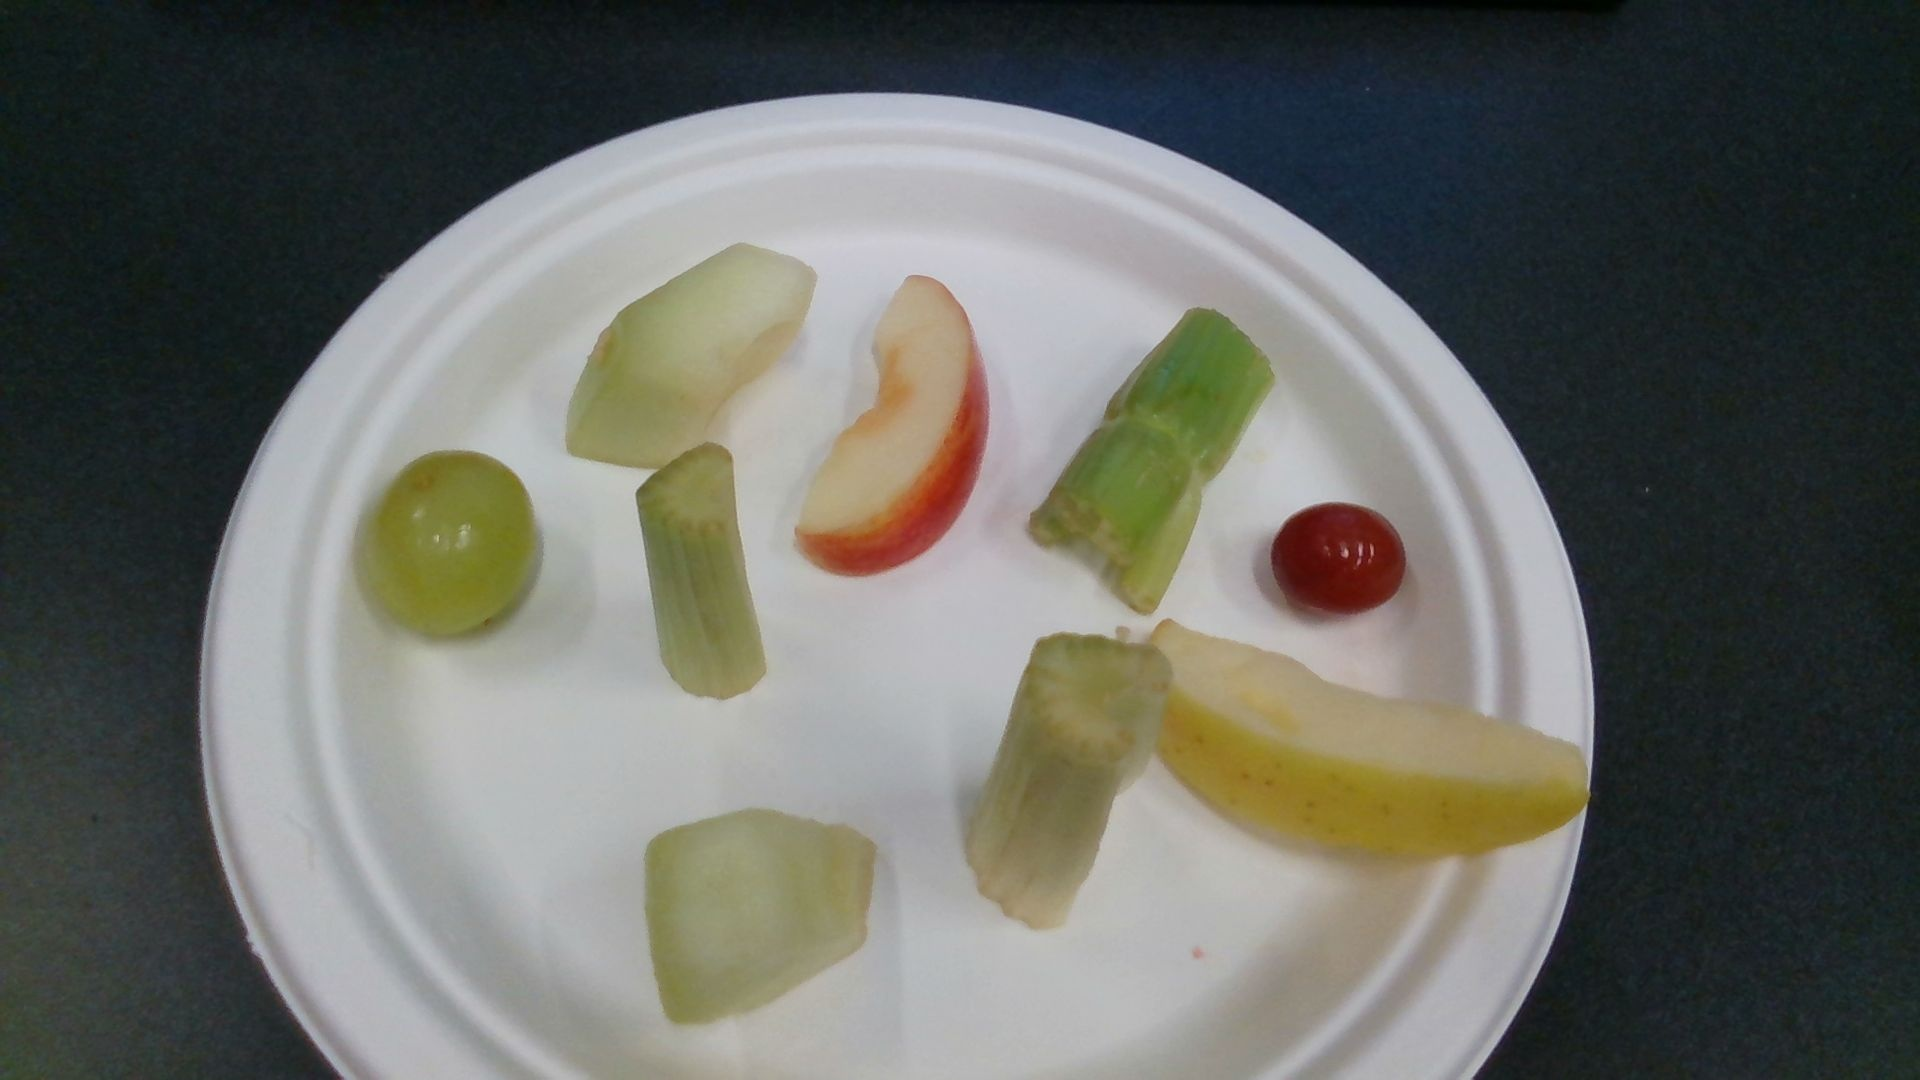apple: (1147, 621, 1589, 856), (796, 276, 992, 574)
cantalope: (567, 243, 814, 465), (644, 810, 874, 1023)
celery: (1029, 310, 1274, 611), (969, 636, 1170, 928), (636, 444, 769, 703)
grape_green: (372, 454, 541, 638)
grape_purple: (1274, 505, 1407, 613)
